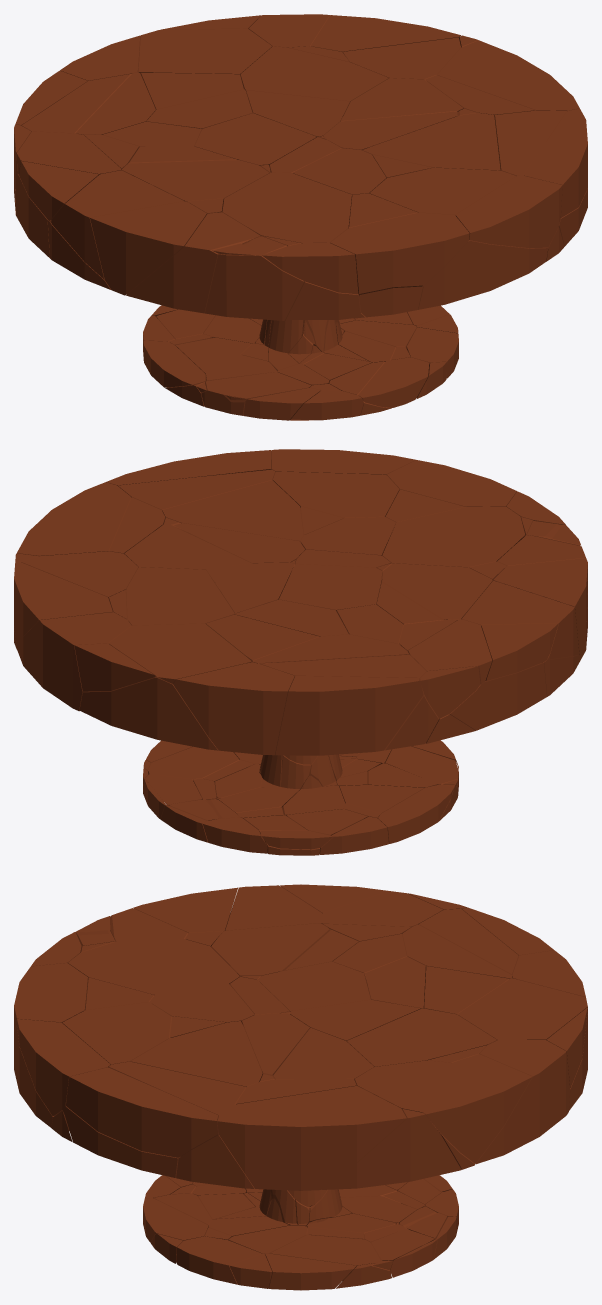
File: Round Table.fbx
3 renders of one model, top to bottom at view 1: azimuth 30°, elevation 25°; view 2: azimuth 150°, elevation 25°; view 3: azimuth 270°, elevation 25°, orthographic.
Visible parts, largest first — view 1: Table_cell.061, Table_cell.036, Table_cell.006, Table_cell.010, Table_cell.072, Table_cell.137, Table_cell.127, Table_cell.009, Table_cell.075, Table_cell.018, Table_cell.091, Table_cell.062 (+54 smaller); view 2: Table_cell.071, Table_cell.001, Table_cell.036, Table_cell.070, Table_cell.053, Table_cell.127, Table_cell.075, Table_cell.009, Table_cell.018, Table_cell.046, Table_cell.103, Table_cell.091 (+51 smaller); view 3: Table_cell.075, Table_cell.087, Table_cell.020, Table_cell.036, Table_cell.070, Table_cell.164, Table_cell.127, Table_cell.009, Table_cell.018, Table_cell.010, Table_cell.046, Table_cell.064 (+54 smaller).
Part boxes in pixels (x1,y1,x2,y2): Table_cell.061: (330,212,469,294); Table_cell.036: (218,172,351,243); Table_cell.006: (90,201,206,295); Table_cell.010: (455,175,562,248); Table_cell.072: (126,212,260,313); Table_cell.137: (205,236,303,320); Table_cell.127: (138,28,272,74); Table_cell.009: (240,46,388,116); Table_cell.075: (437,40,579,110); Table_cell.018: (362,113,500,170); Table_cell.091: (50,170,183,279); Table_cell.062: (418,240,548,309); Table_cell.071: (275,676,423,755); Table_cell.001: (173,662,294,755); Table_cell.036: (381,506,524,567); Table_cell.070: (17,612,131,711); Table_cell.053: (79,676,218,750); Table_cell.127: (108,623,251,683); Table_cell.075: (17,482,131,556); Table_cell.009: (126,567,235,625); Table_cell.018: (162,480,303,552); Table_cell.046: (273,471,399,518); Table_cell.103: (259,654,438,750); Table_cell.091: (462,580,579,659); Table_cell.075: (217,1086,406,1190); Table_cell.087: (66,1067,218,1157); Table_cell.020: (423,1054,532,1163); Table_cell.036: (68,939,239,995); Table_cell.070: (475,1040,570,1164); Table_cell.164: (322,1109,461,1189); Table_cell.127: (457,978,587,1039); Table_cell.009: (346,1008,496,1066); Table_cell.018: (130,1021,262,1086); Table_cell.010: (17,1019,110,1116); Table_cell.046: (62,1002,172,1064); Table_cell.064: (211,923,329,976).
Bounding box in the file's own units: 200 × 83.79 × 200.
